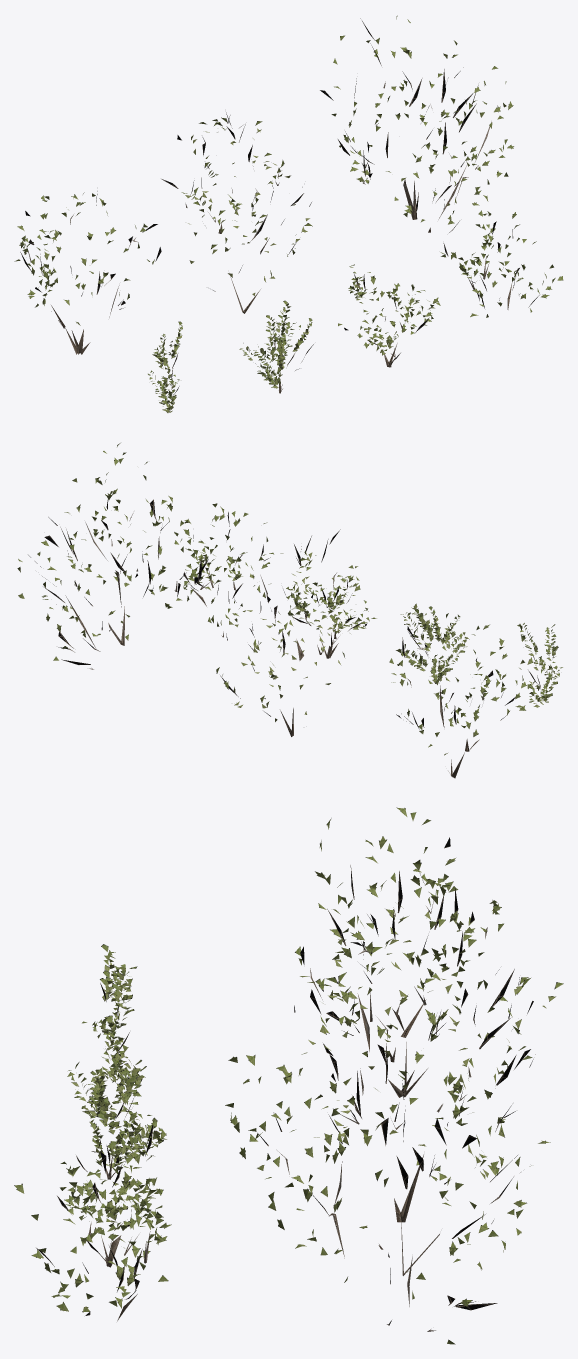
File: searsia.glb
The picture shows the model from 3 angles, top to bottom: view 1: azimuth 30°, elevation 25°; view 2: azimuth 150°, elevation 25°; view 3: azimuth 270°, elevation 25°; orthographic projection. The views are drawn at different scales.
Visible parts, largest first — view 1: searsia_lucida_a_LOD0, searsia_lucida_c_LOD0, searsia_lucida_b_LOD0, searsia_lucida_f_LOD0, searsia_lucida_e_LOD0, searsia_lucida_d_LOD0, searsia_lucida_g_LOD0; view 2: searsia_lucida_a_LOD0, searsia_lucida_b_LOD0, searsia_lucida_c_LOD0, searsia_lucida_f_LOD0, searsia_lucida_e_LOD0, searsia_lucida_d_LOD0, searsia_lucida_g_LOD0; view 3: searsia_lucida_a_LOD0, searsia_lucida_c_LOD0, searsia_lucida_b_LOD0, searsia_lucida_e_LOD0, searsia_lucida_d_LOD0, searsia_lucida_f_LOD0, searsia_lucida_g_LOD0.
Boxes of the visible parts, x1,y1,x2,y2 form: searsia_lucida_a_LOD0: (320, 15, 513, 232); searsia_lucida_c_LOD0: (14, 191, 161, 354); searsia_lucida_b_LOD0: (161, 112, 312, 313); searsia_lucida_f_LOD0: (239, 300, 313, 393); searsia_lucida_e_LOD0: (338, 264, 440, 367); searsia_lucida_d_LOD0: (440, 195, 563, 317); searsia_lucida_g_LOD0: (148, 321, 182, 412); searsia_lucida_a_LOD0: (17, 443, 247, 669); searsia_lucida_b_LOD0: (208, 529, 355, 736); searsia_lucida_c_LOD0: (389, 613, 533, 778); searsia_lucida_f_LOD0: (400, 603, 469, 683); searsia_lucida_e_LOD0: (286, 565, 376, 658); searsia_lucida_d_LOD0: (174, 503, 273, 615); searsia_lucida_g_LOD0: (517, 623, 562, 707); searsia_lucida_a_LOD0: (225, 948, 550, 1344); searsia_lucida_c_LOD0: (295, 807, 507, 1097); searsia_lucida_b_LOD0: (294, 865, 563, 1222); searsia_lucida_e_LOD0: (57, 1070, 166, 1267); searsia_lucida_d_LOD0: (14, 1123, 171, 1321); searsia_lucida_f_LOD0: (67, 1059, 161, 1179); searsia_lucida_g_LOD0: (82, 944, 137, 1082).
Size of the model in its own units: 4.45 by 2.21 by 2.72.
3 materials, 3 textured.
